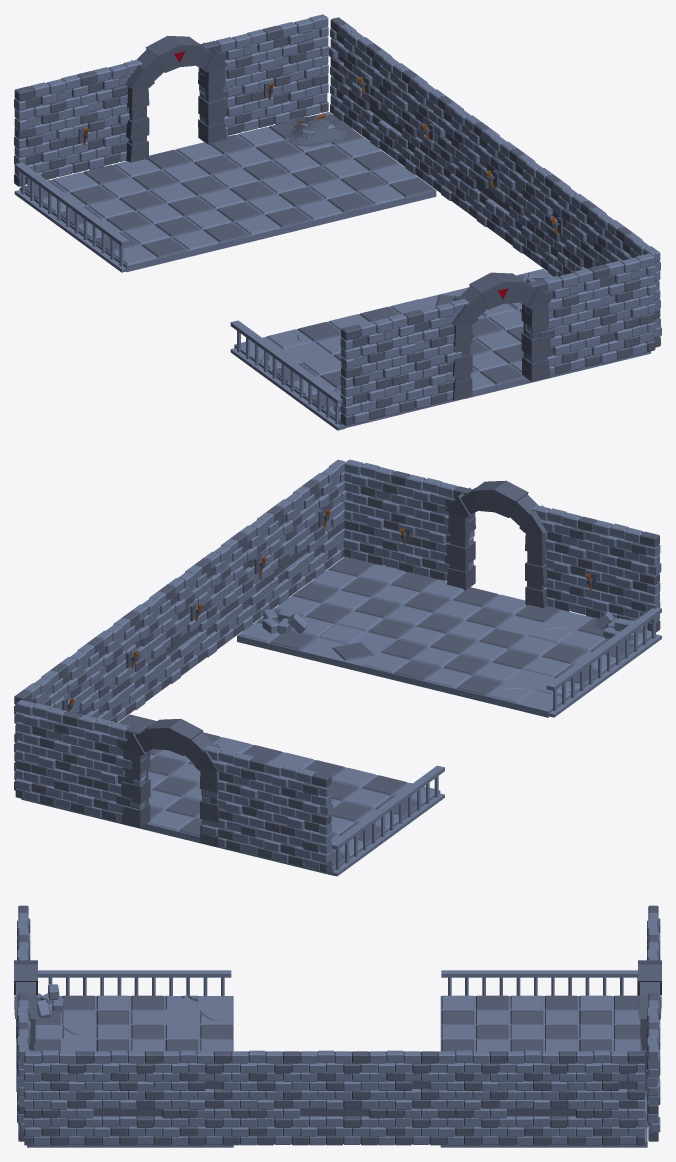
Rendered from MapBig.fbx.
3 renders of one model, top to bottom at view 1: azimuth 30°, elevation 25°; view 2: azimuth 150°, elevation 25°; view 3: azimuth 270°, elevation 25°, orthographic. The views are drawn at different scales.
Visible parts, largest first — view 1: floor.001, brick wall.002, brick wall.001, brick wall.003, door arc.001, door arc, railing.001, railing, debris, floor.004, floor.007, torch.001; view 2: floor.001, brick wall.002, brick wall.003, brick wall.001, door arc, door arc.001, railing, railing.001, floor.007, floor.004, floor.003, bricks.001 (+2 smaller); view 3: brick wall.002, floor.001, brick wall.003, railing.001, railing, brick wall.001, floor.004, floor.003, door arc.001, door arc, bricks.
Part boxes in pixels (x1,y1,x2,y2): floor.001: (19,112,650,427); brick wall.002: (329,17,661,347); brick wall.001: (340,253,655,425); brick wall.003: (14,14,329,186); door arc.001: (125,35,227,162); door arc: (451,272,550,400); railing.001: (14,162,129,272); railing: (230,320,345,430); debris: (283,113,352,146); floor.004: (234,329,331,372); floor.007: (420,287,516,319); torch.001: (358,76,562,234); floor.001: (21,556,655,875); brick wall.002: (14,459,346,790); brick wall.003: (15,700,332,873); brick wall.001: (343,459,661,632); door arc: (446,480,547,608); door arc.001: (121,718,220,847); railing: (546,607,661,717); railing.001: (329,765,444,876); floor.007: (299,624,396,672); floor.004: (486,670,583,717); floor.003: (496,605,592,643); bricks.001: (262,609,307,633); brick wall.002: (24,1050,644,1145); floor.001: (27,995,647,1147); brick wall.003: (647,905,660,1141); railing.001: (441,970,639,995); railing: (38,970,231,996); brick wall.001: (17,905,30,1141); floor.004: (165,995,233,1025); floor.003: (35,1024,95,1051); door arc.001: (638,960,661,1091); door arc: (14,960,37,1091); bricks: (36,984,63,1017).
Bounding box in the file's own units: 1105 × 373 × 1979.
